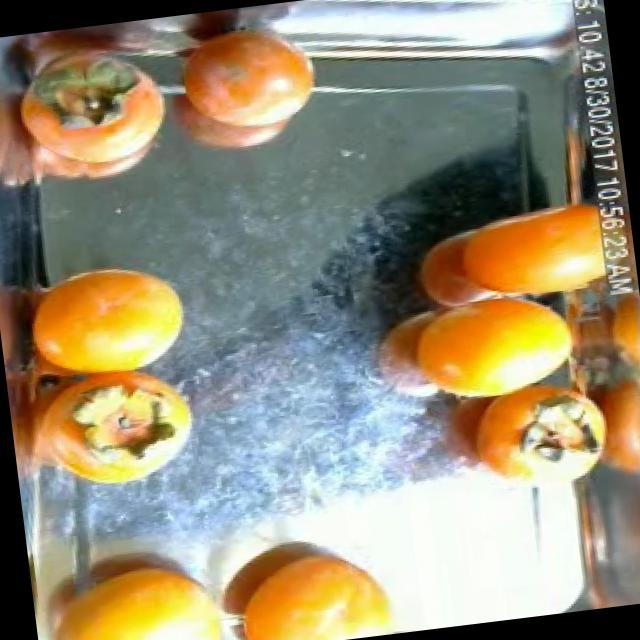Fruit: (136, 0, 342, 179), (8, 244, 207, 398)
